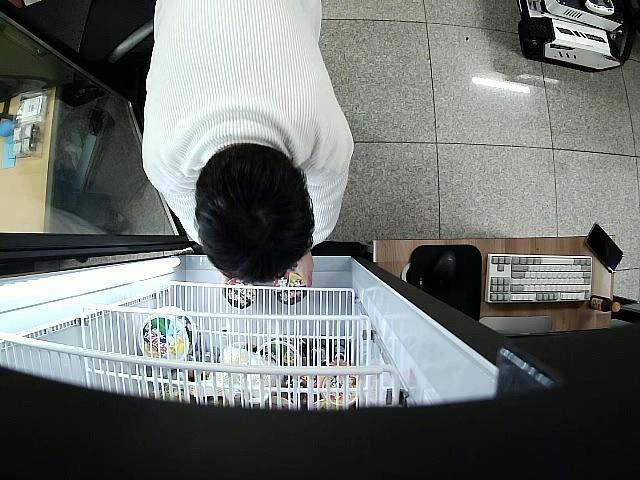08_buldak_S: (272, 274, 304, 308)
